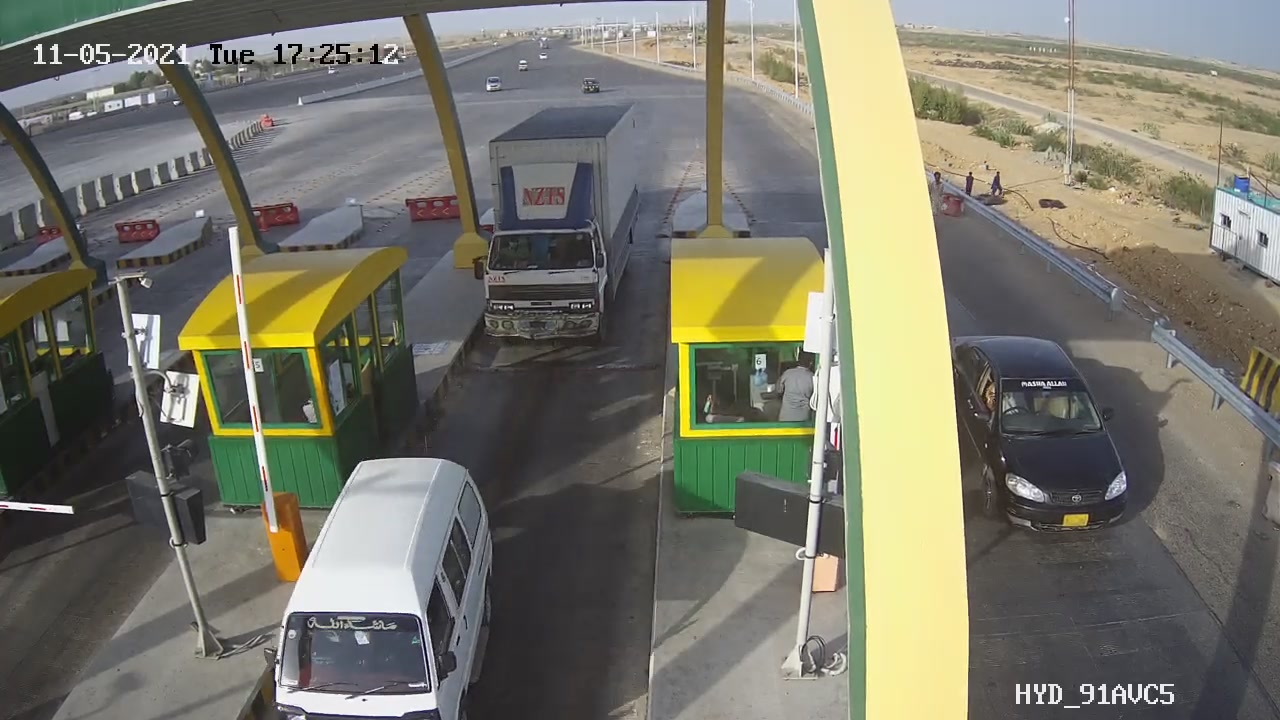F5: (461, 92, 663, 356)
